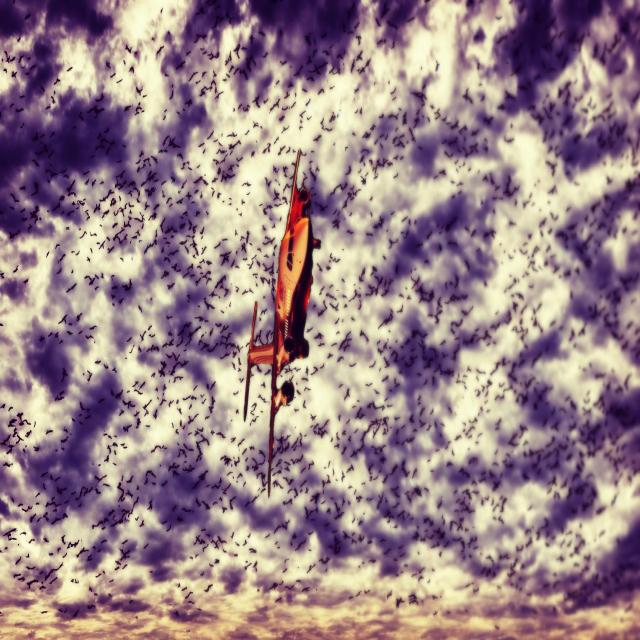airplane: (242, 148, 322, 498)
